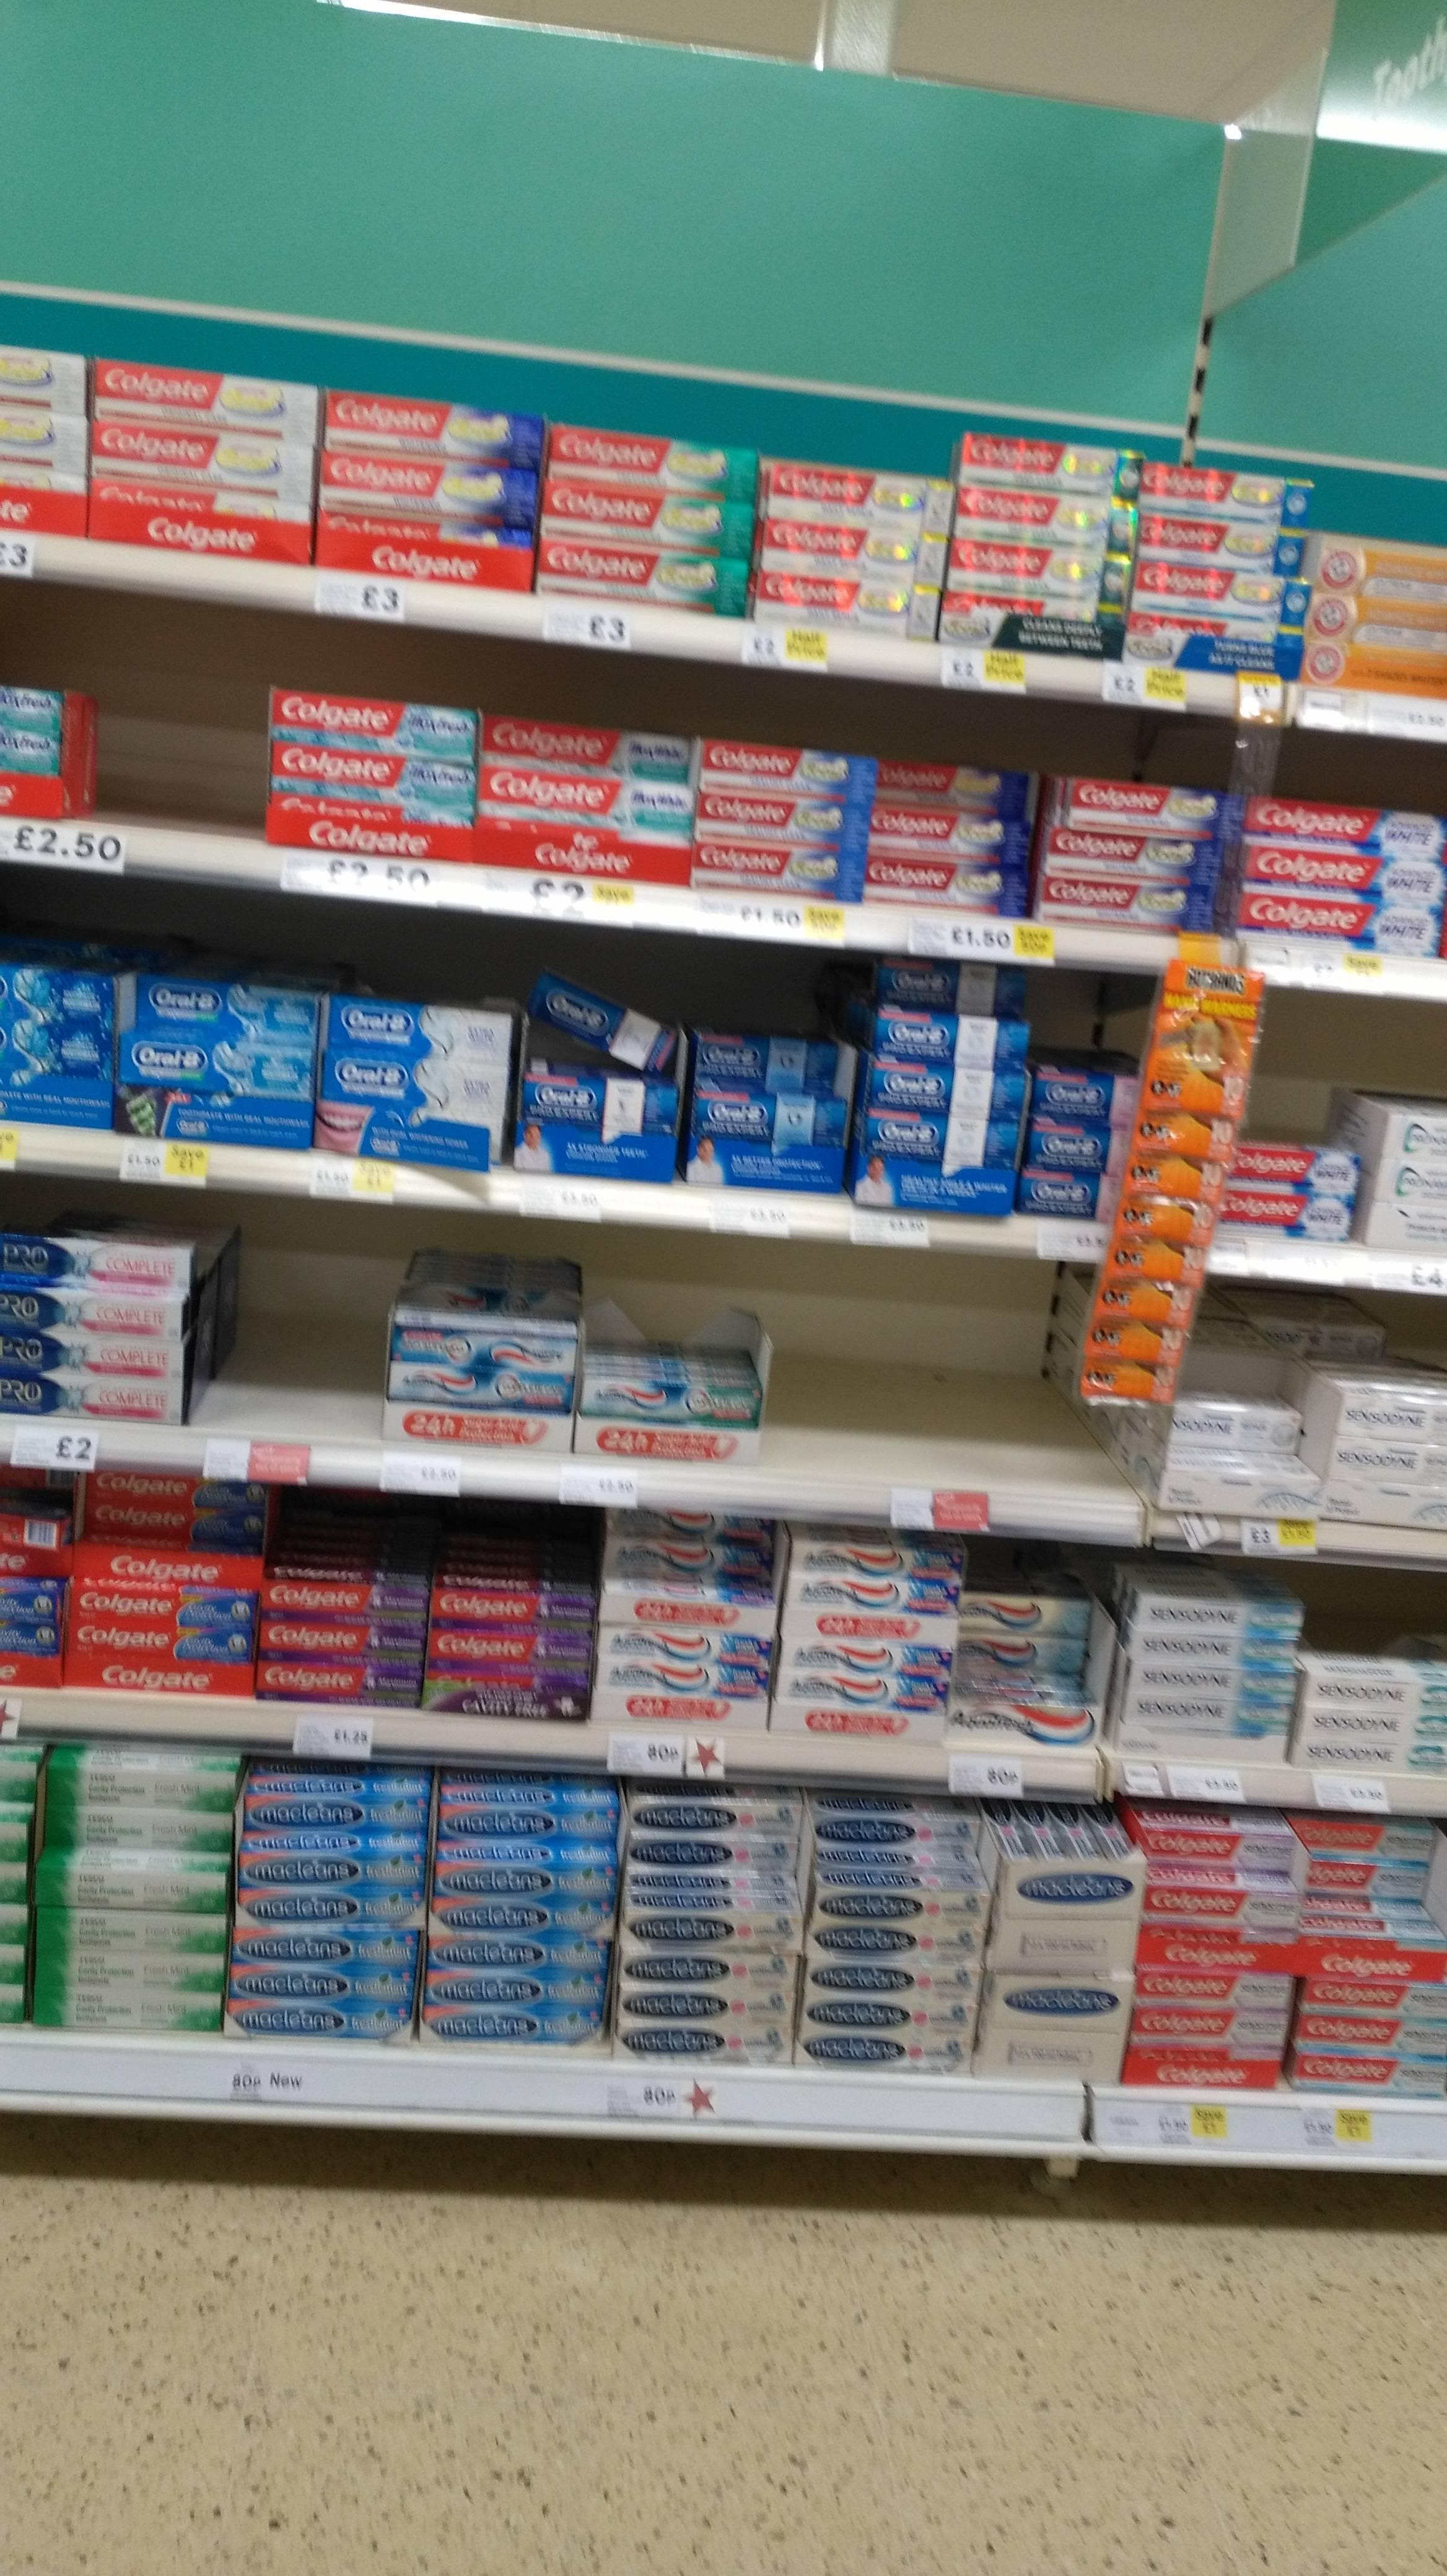empty: (76, 671, 265, 828), (200, 1269, 361, 1428), (759, 1307, 920, 1467), (923, 1325, 1084, 1484)
